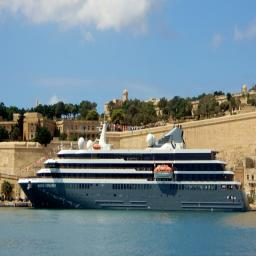cruises: (18, 112, 253, 217)
